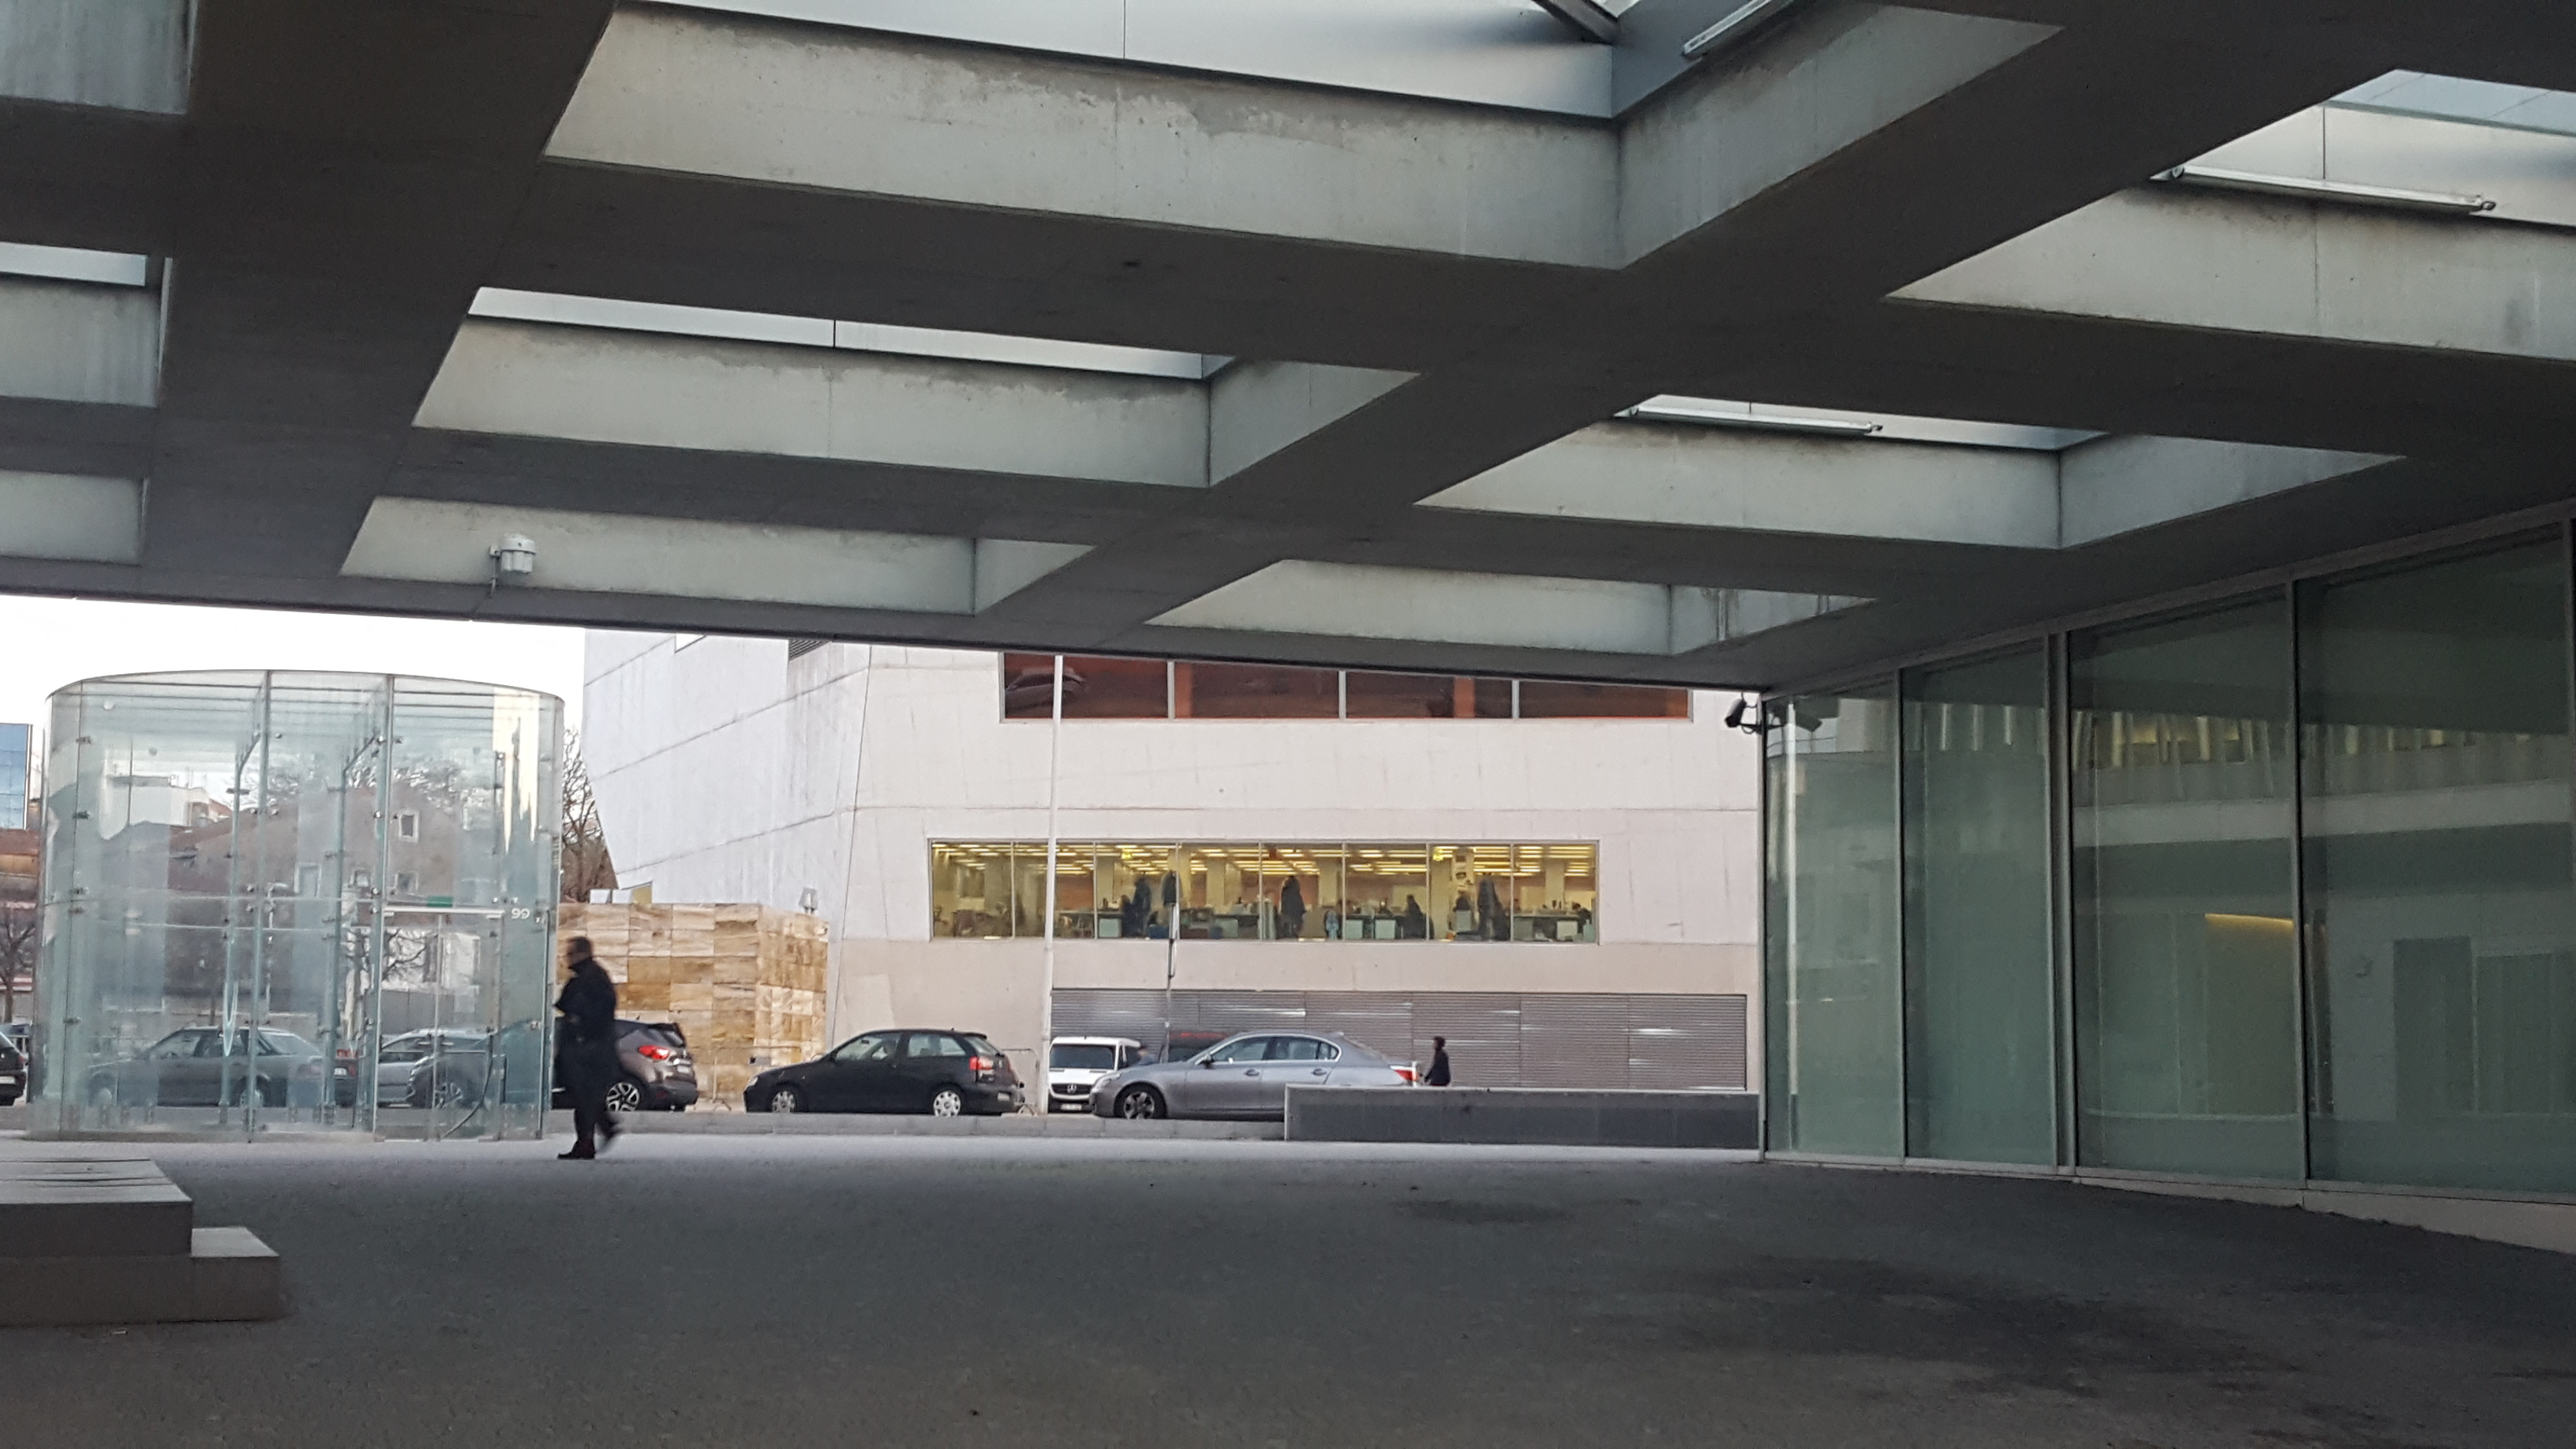musica: (632, 702, 1725, 908)
